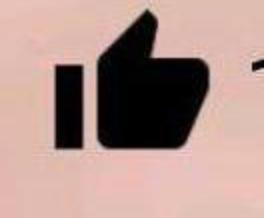ImgButton: (1, 1, 263, 217)
